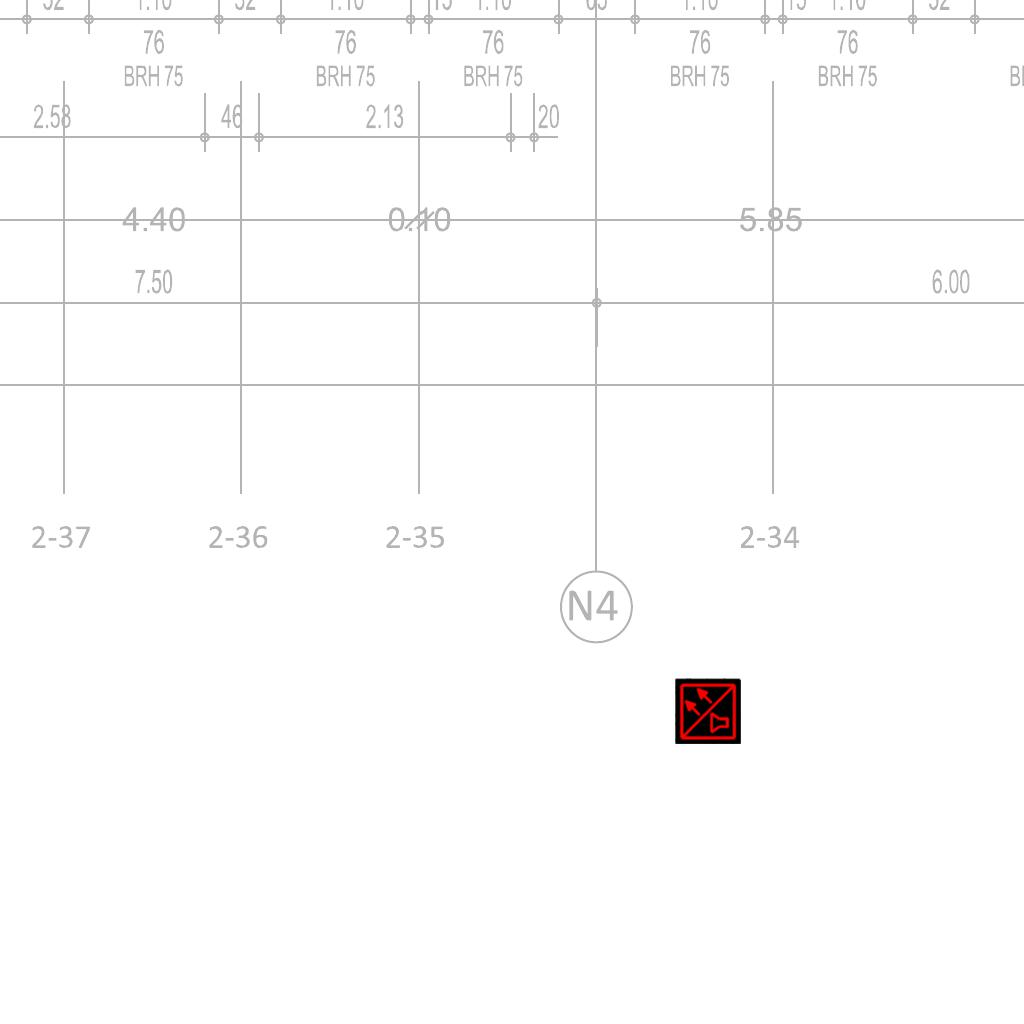OKW_Multisensormelder_(Kombination_optischer_Rauch-Kahlenmonoxid_Waerme-Melder): (675, 678, 741, 744)
